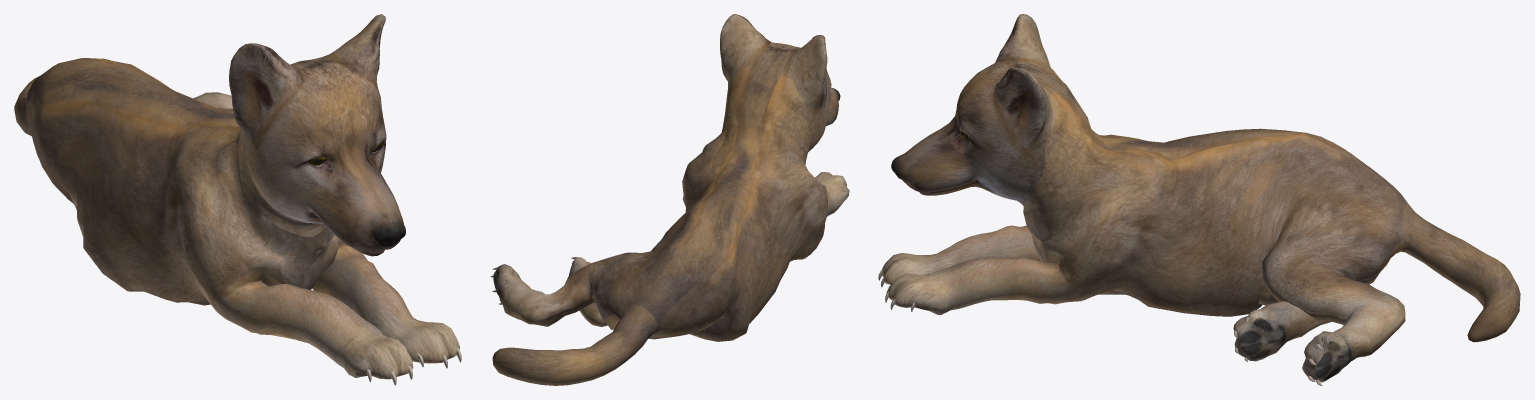
Rendered from WOLF_TEEN.glb.
3 views of the same model, side by side, from view 1: azimuth 30°, elevation 25°; view 2: azimuth 150°, elevation 25°; view 3: azimuth 270°, elevation 25° (orthographic). The views are drawn at different scales.
Visible parts, largest first — view 1: SkeletalMeshComponent0_LOD0; view 2: SkeletalMeshComponent0_LOD0; view 3: SkeletalMeshComponent0_LOD0.
Boxes of the visible parts, x1=… form: SkeletalMeshComponent0_LOD0: x1=14, y1=14, x2=461, y2=385; SkeletalMeshComponent0_LOD0: x1=490, y1=14, x2=849, y2=385; SkeletalMeshComponent0_LOD0: x1=878, y1=14, x2=1520, y2=385.
Bounding box in the file's own units: 8.28 × 8.06 × 16.59.
Materials: 1 (1 with a texture image).
